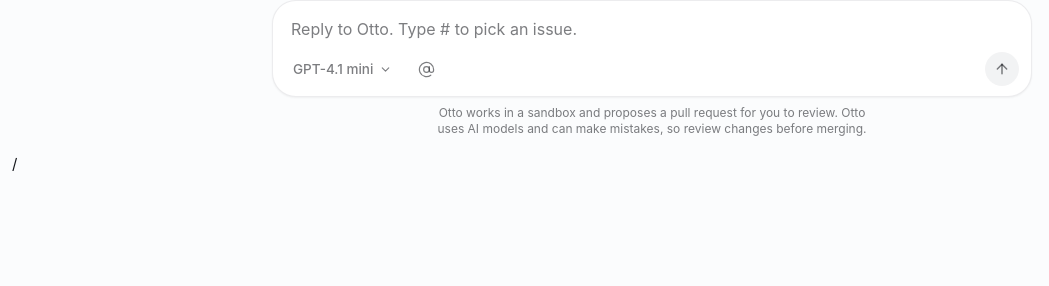
Scenario: an unavailable model (400) is shown inline
Type "x" into the text box named "Message Otto" at (655, 30), box 291,15 -> 1019,44
Then press Enter
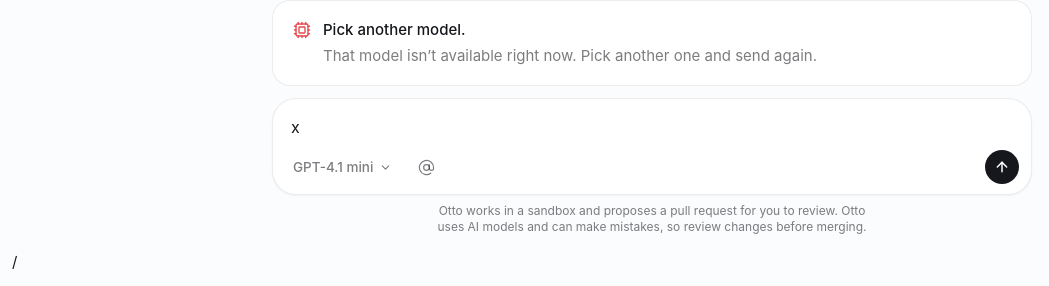
Check: the text "Pick another model." is shown, box 323,20 -> 466,39
